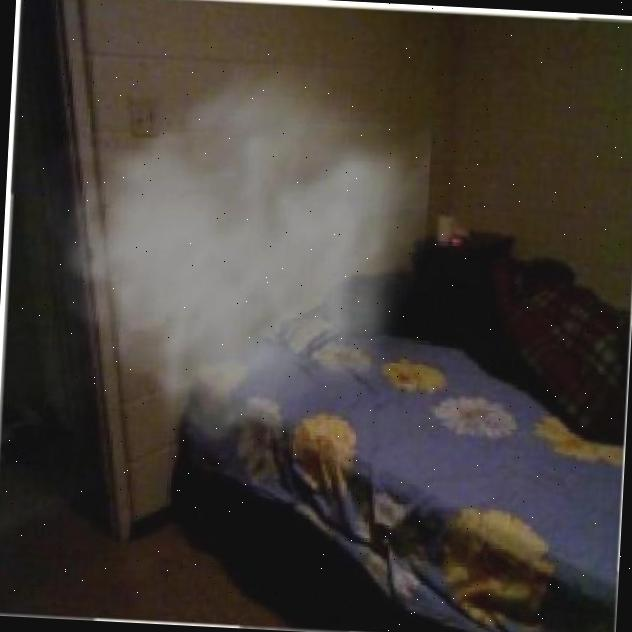smoke: (62, 63, 415, 419)
